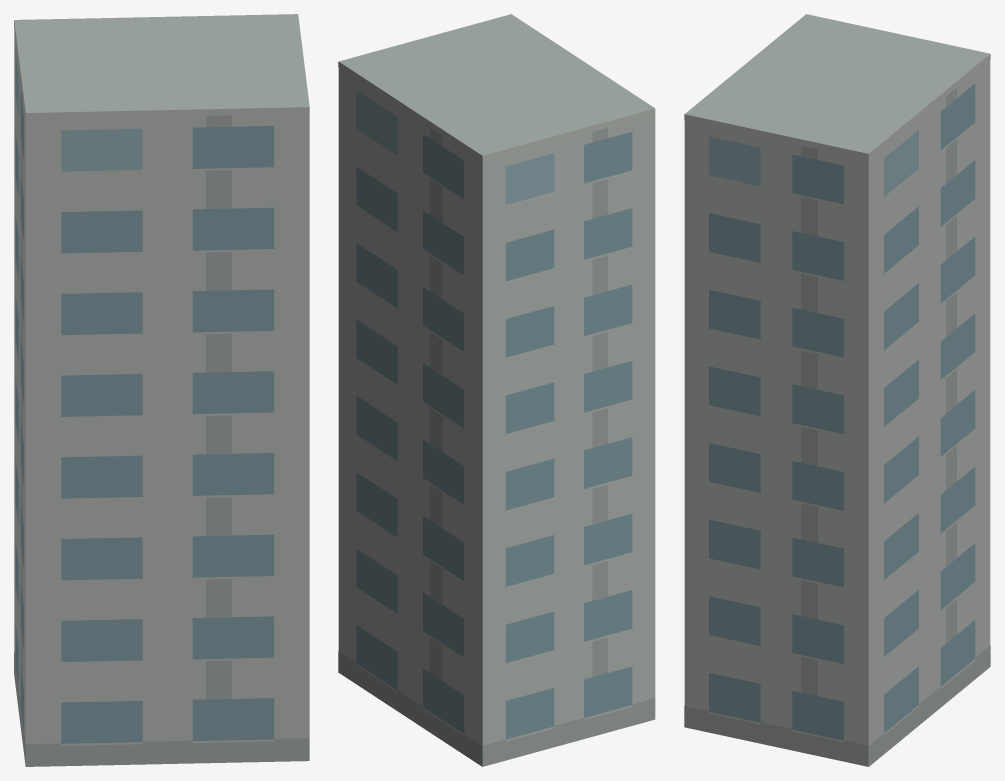
The model's file is survey-upis-32948763.glb.
3 renders of one model, left to right at view 1: azimuth 30°, elevation 25°; view 2: azimuth 150°, elevation 25°; view 3: azimuth 270°, elevation 25°, orthographic. The views are drawn at different scales.
Visible parts, largest first — view 1: survey-upis-32948763.tmp; view 2: survey-upis-32948763.tmp; view 3: survey-upis-32948763.tmp.
Boxes of the visible parts, left/top/right/bottom form: survey-upis-32948763.tmp: left=14, top=14, right=309, bottom=766; survey-upis-32948763.tmp: left=338, top=14, right=655, bottom=766; survey-upis-32948763.tmp: left=684, top=14, right=990, bottom=766.
Bounding box in the file's own units: 11.8 × 24.1 × 10.91.
